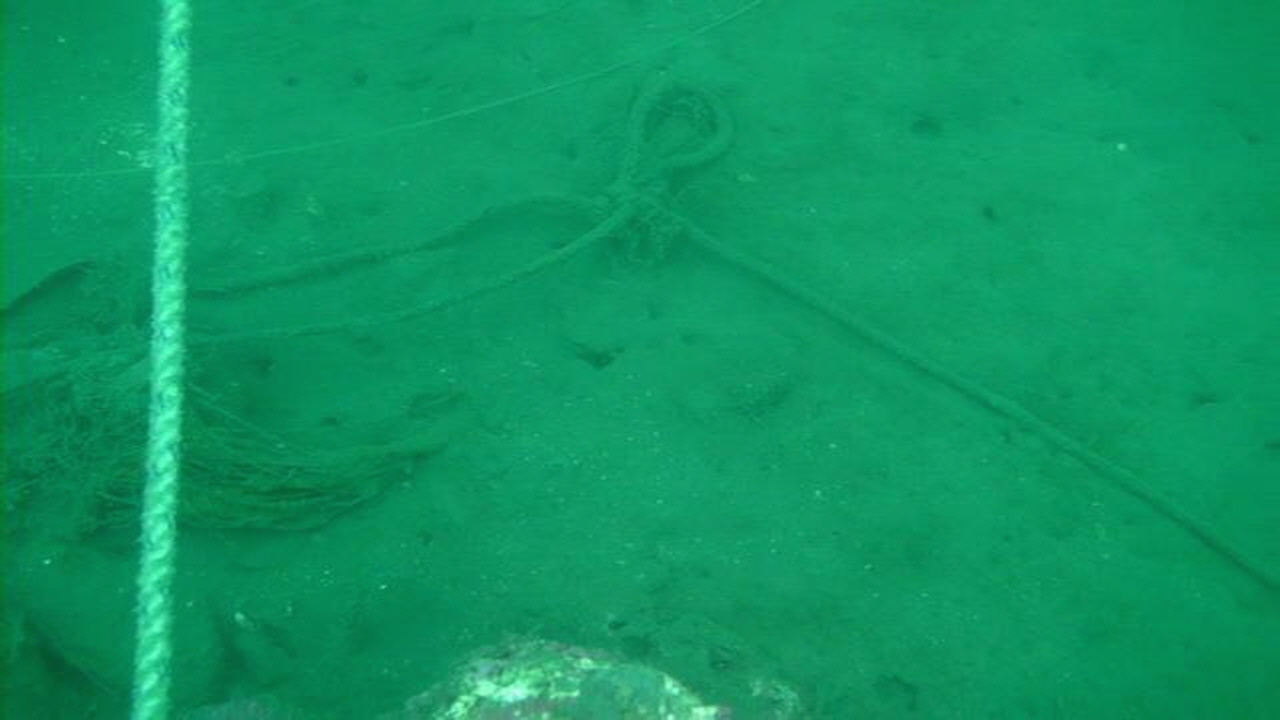rope: (208, 51, 1266, 627), (128, 0, 192, 720)
